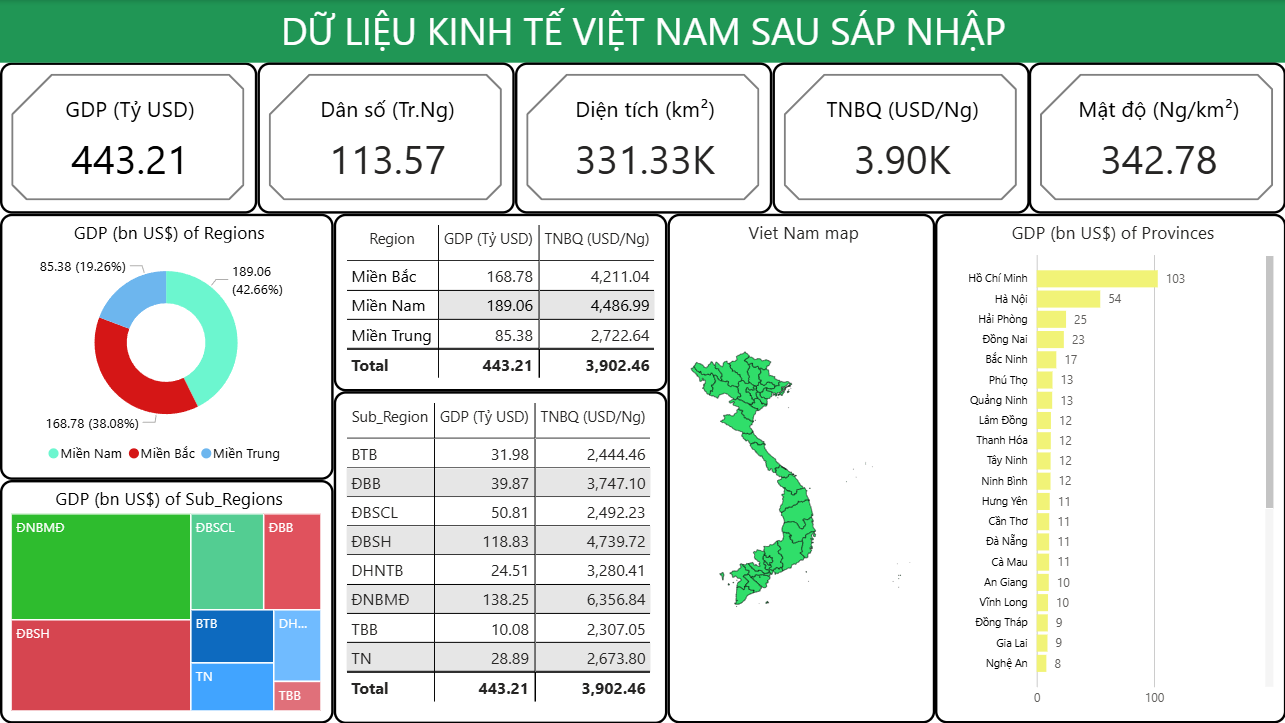

What the dashboard file says about the page in this screenshot:
{"tool":"powerbi","page":{"name":"Page 1","canvas":[1280,720],"ordinal":0},"visuals":[{"type":"cardVisual","fields":{"Data":["Map_34_Tinh.GDP (Tỷ USD)"]},"box":[0,62.6,256,150],"z":0},{"type":"textbox","box":[0,0,1280.3,62.6],"z":1000},{"type":"cardVisual","fields":{"Data":["Map_34_Tinh.TNBQ (USD/Ng)"]},"box":[769.1,62.6,256.4,150],"z":2000},{"type":"cardVisual","fields":{"Data":["Map_34_Tinh.Dân số (Tr.Ng)"]},"box":[256.4,62.6,256.4,150],"z":3000},{"type":"cardVisual","fields":{"Data":["Map_34_Tinh.Mật độ (Ng/km²)"]},"box":[1023.9,62.6,256.4,150],"z":4000},{"type":"cardVisual","fields":{"Data":["Sum(Provinces of Viet Nam.Diện tích (km2))"]},"box":[512.7,62.6,256.4,150],"z":5000},{"type":"donutChart","title":"GDP (bn US$) of Regions","fields":{"Category":["Regions of Vietnam.Region"],"Y":["Map_34_Tinh.GDP (Tỷ USD)"]},"box":[0,212.7,332.1,265],"z":6000},{"type":"treemap","title":"GDP (bn US$) of Sub_Regions","fields":{"Group":["Regions of Vietnam.Sub_Region"],"Values":["Map_34_Tinh.GDP (Tỷ USD)"]},"box":[0,477.7,332.1,242.6],"z":7000},{"type":"tableEx","fields":{"Values":["Regions of Vietnam.Region","Map_34_Tinh.GDP (Tỷ USD)","Map_34_Tinh.TNBQ (USD/Ng)"]},"box":[332.1,212.7,332.1,176.6],"z":8000},{"type":"tableEx","fields":{"Values":["Regions of Vietnam.Sub_Region","Map_34_Tinh.GDP (Tỷ USD)","Map_34_Tinh.TNBQ (USD/Ng)"]},"box":[332.1,389.4,332.1,330.9],"z":9000},{"type":"shapeMap","title":"Viet Nam map","fields":{"Value":["select"],"Category":["Map_34_Tinh.Map_34"]},"box":[664.3,212.7,266.2,507.5],"z":10000},{"type":"barChart","title":"GDP (bn US$) of Provinces","fields":{"Category":["Regions of Vietnam.Provinces"],"Y":["Map_34_Tinh.GDP (Tỷ USD)"]},"box":[930.5,212.7,349.6,507.5],"z":11000}]}

Visuals, with their boxes in screenshot pixels (x1, y1, x2, y2), scaled from the page's 1280x720 canvas onto the 1285x723 screenshot:
cardVisual - Map_34_Tinh.GDP (Tỷ USD): pyautogui.locateOnScreen(0, 63, 257, 213)
textbox: pyautogui.locateOnScreen(0, 0, 1284, 63)
cardVisual - Map_34_Tinh.TNBQ (USD/Ng): pyautogui.locateOnScreen(772, 63, 1030, 213)
cardVisual - Map_34_Tinh.Dân số (Tr.Ng): pyautogui.locateOnScreen(257, 63, 515, 213)
cardVisual - Map_34_Tinh.Mật độ (Ng/km²): pyautogui.locateOnScreen(1028, 63, 1284, 213)
cardVisual - Sum(Provinces of Viet Nam.Diện tích (km2)): pyautogui.locateOnScreen(515, 63, 772, 213)
"GDP (bn US$) of Regions" donutChart: pyautogui.locateOnScreen(0, 214, 333, 480)
"GDP (bn US$) of Sub_Regions" treemap: pyautogui.locateOnScreen(0, 480, 333, 722)
tableEx - Regions of Vietnam.Region x Map_34_Tinh.GDP (Tỷ USD): pyautogui.locateOnScreen(333, 214, 667, 391)
tableEx - Regions of Vietnam.Sub_Region x Map_34_Tinh.GDP (Tỷ USD): pyautogui.locateOnScreen(333, 391, 667, 722)
"Viet Nam map" shapeMap: pyautogui.locateOnScreen(667, 214, 934, 722)
"GDP (bn US$) of Provinces" barChart: pyautogui.locateOnScreen(934, 214, 1284, 722)
